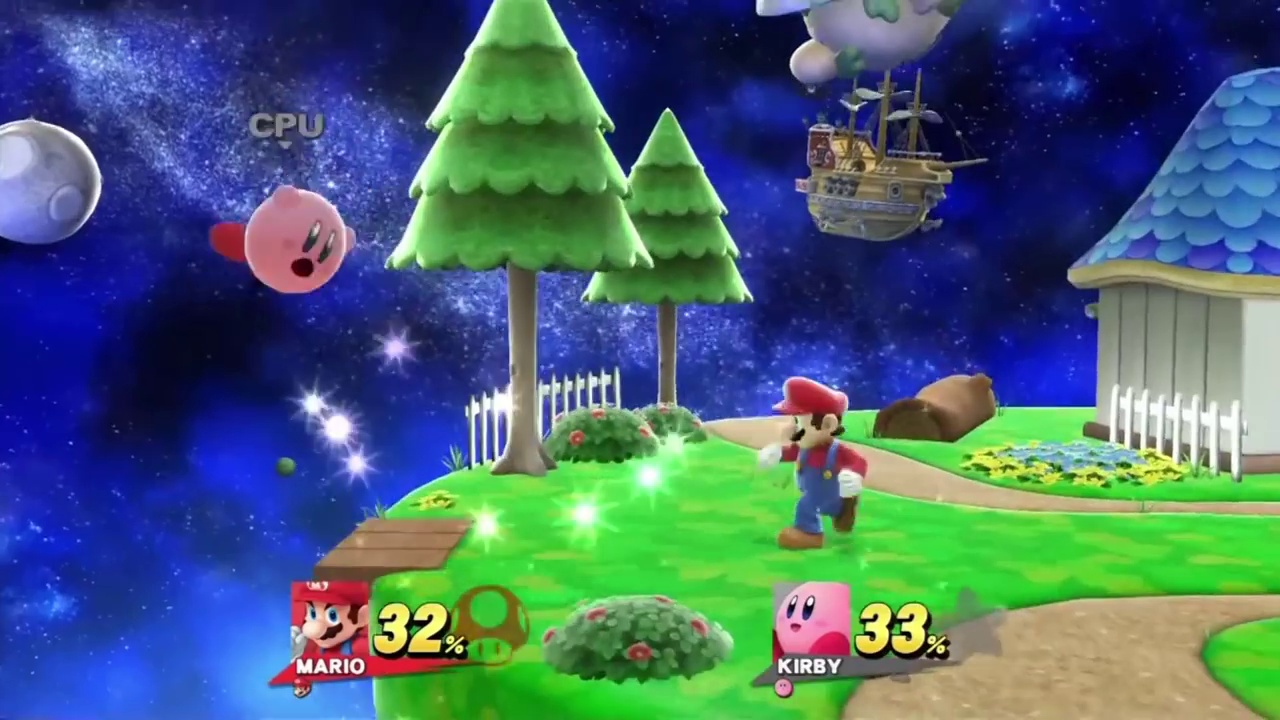Mario: (756, 376, 868, 553)
